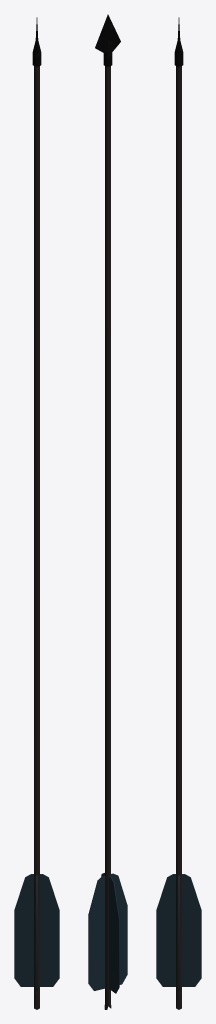
Rendered from arrow.fbx.
3 renders of one model, left to right at view 1: azimuth 90°, elevation 25°; view 2: azimuth 210°, elevation 25°; view 3: azimuth 270°, elevation 25°, orthographic.
Parts seen in each view (by area): view 1: Bow; view 2: Bow; view 3: Bow.
Boxes of the visible parts, box(x1,y1,x2,y2) form: Bow: box(14, 17, 59, 1009); Bow: box(88, 14, 127, 1009); Bow: box(156, 17, 201, 1009).
Bounding box in the file's own units: 3.27 × 79.48 × 3.27.
